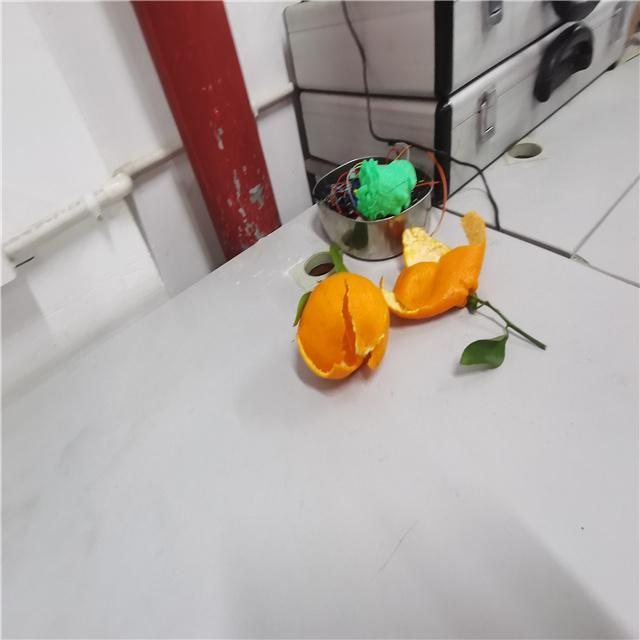orange-peel: (388, 208, 488, 324), (295, 270, 389, 380)
